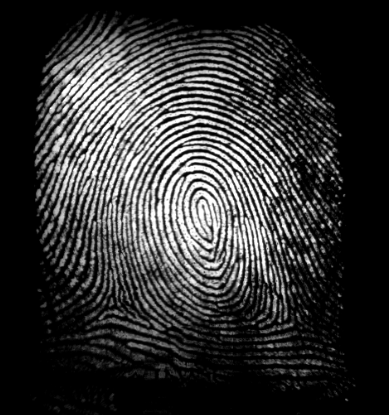deltas: (88, 272, 143, 325)
nucleo: (182, 185, 233, 247)
